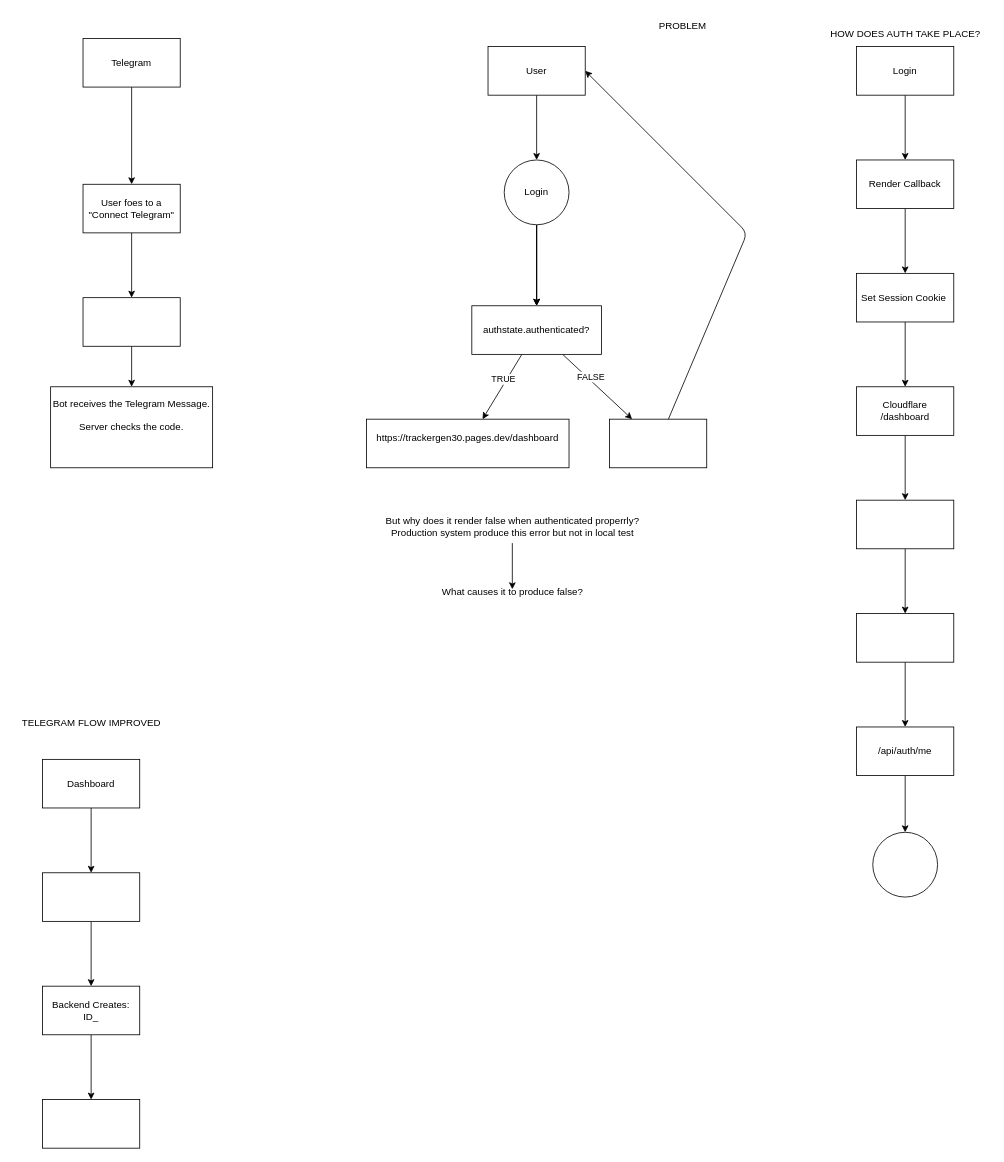
The diagram is 1004 pixels wide and 1162 high, and some of its shapes have lost their labels. The shapes that lost their labels are listed below. From the top down, each one's centre as x and y in pixels, then its label:
At (x=131, y=321): "User Open Telegram /link TG-8429201".
At (x=658, y=443): "Go back to login".
At (x=905, y=524): "App.jsx Protected Route".
At (x=905, y=637): "fetchCurrentUser()".
At (x=905, y=864): "AUTH".
At (x=91, y=896): "Create Link Code".
At (x=91, y=1123): "Telegram receives".
